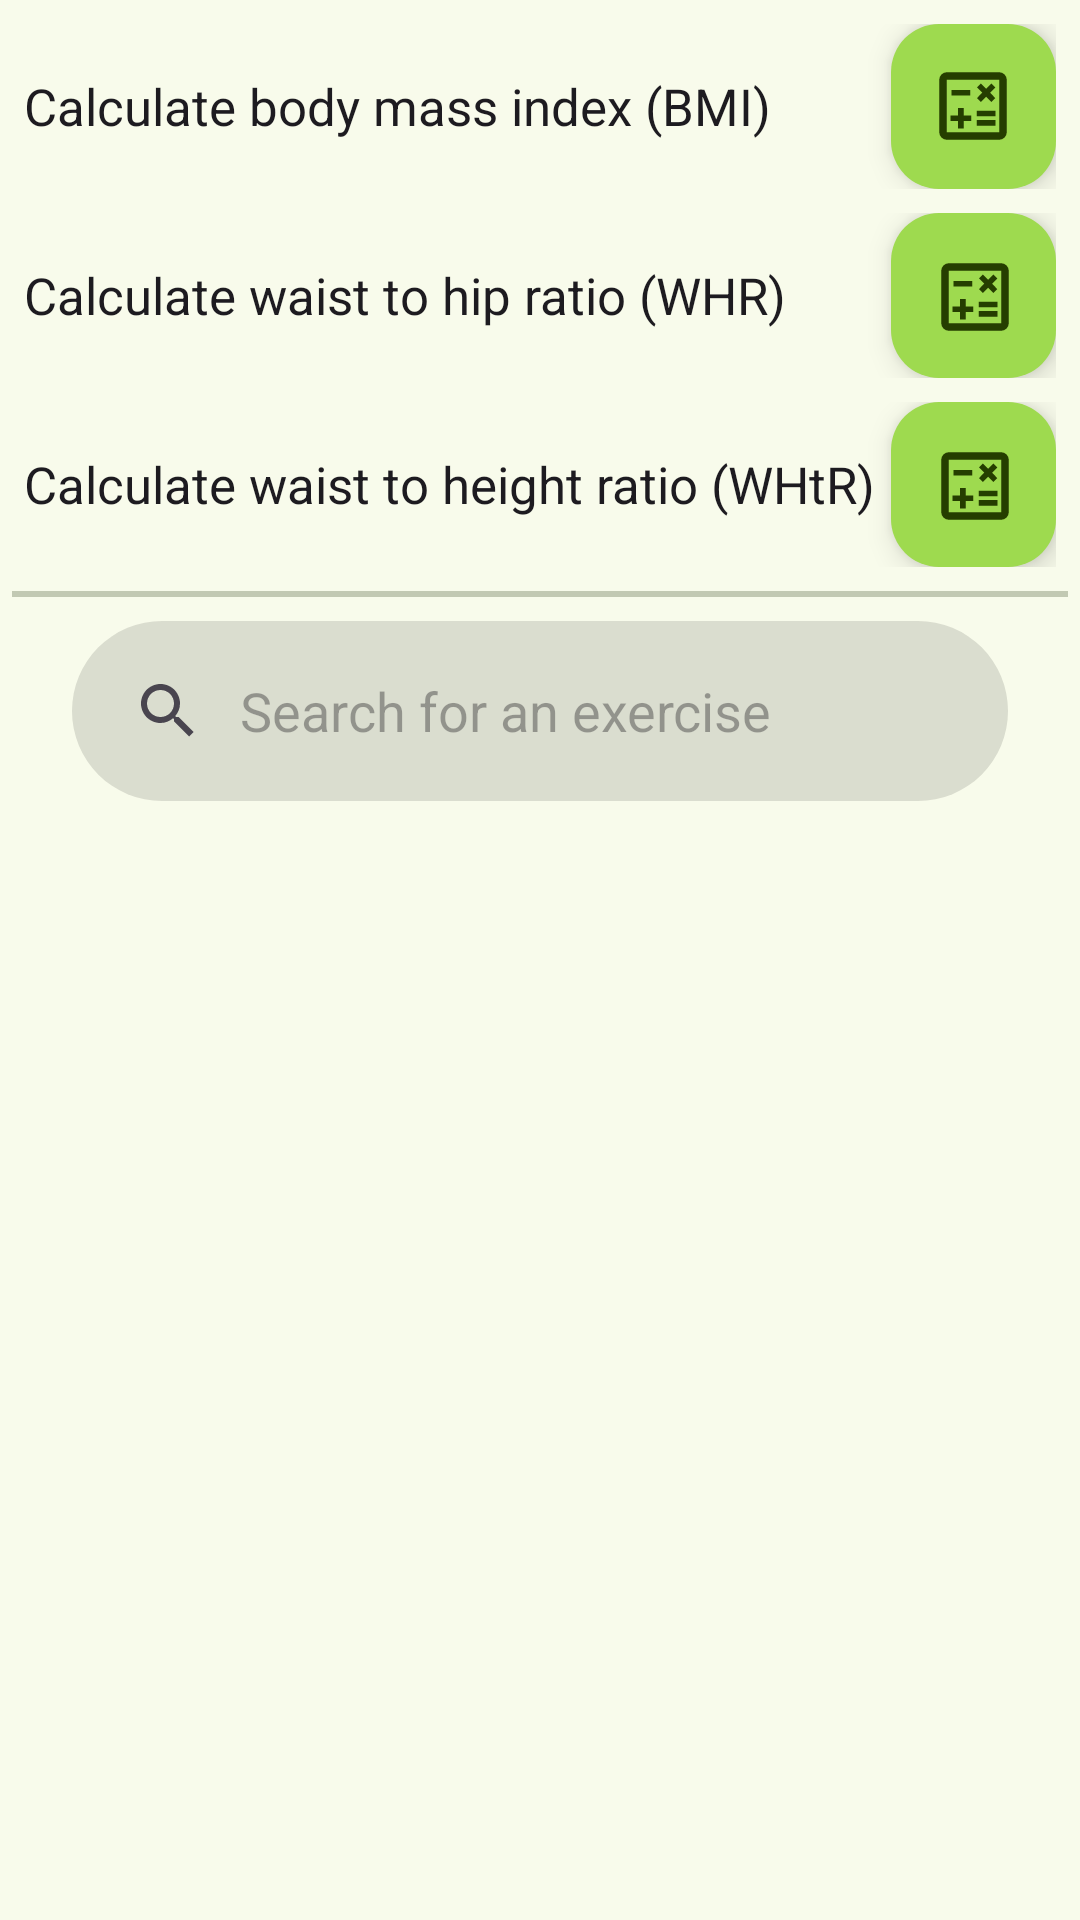

Icons on this 1080x1920 Android screen, each with its box as Rect(x1, y1, x2, y2):
Calculate now: Rect(891, 24, 1056, 189)
